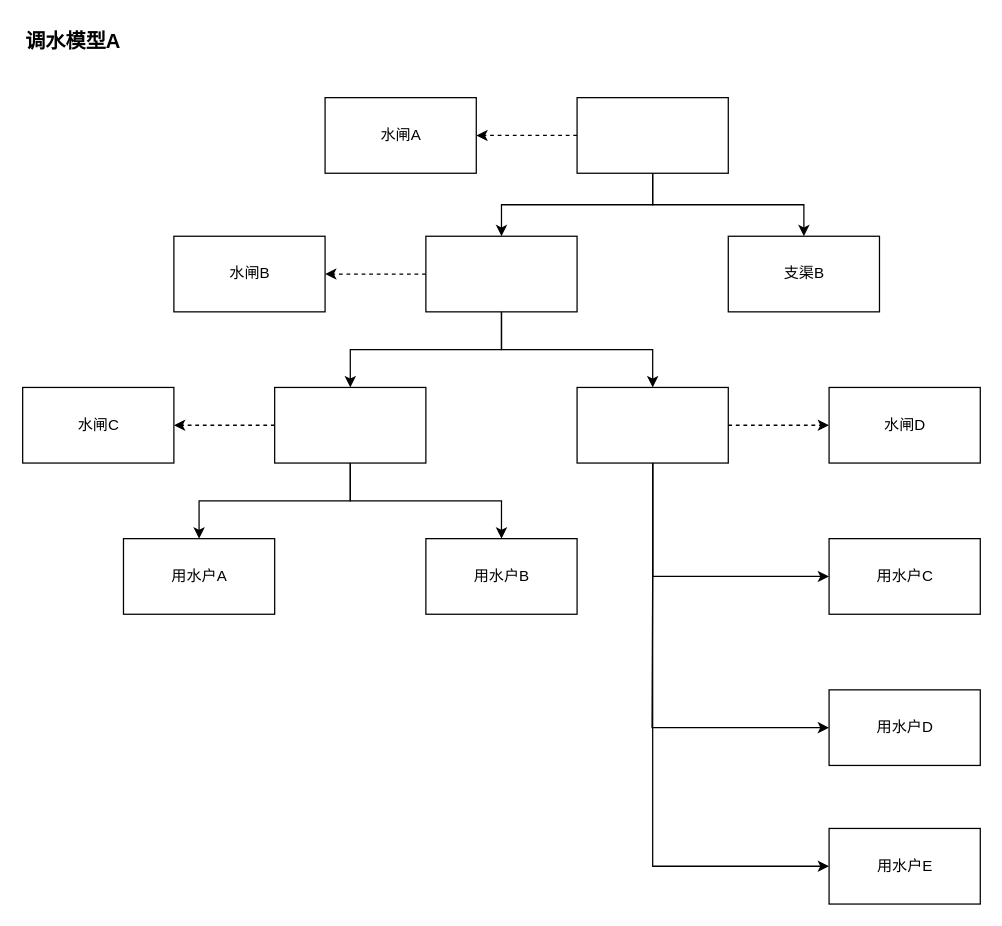
Some shapes in this 1002 by 926 pixel diagram are drawn without their labels. The centre of each missing label's shape, as x and y in pixels:
"取水点A" goes at point 349,424.
"取水点B" goes at point 652,424.
"支渠A" goes at point 501,273.
"河流" goes at point 652,134.
